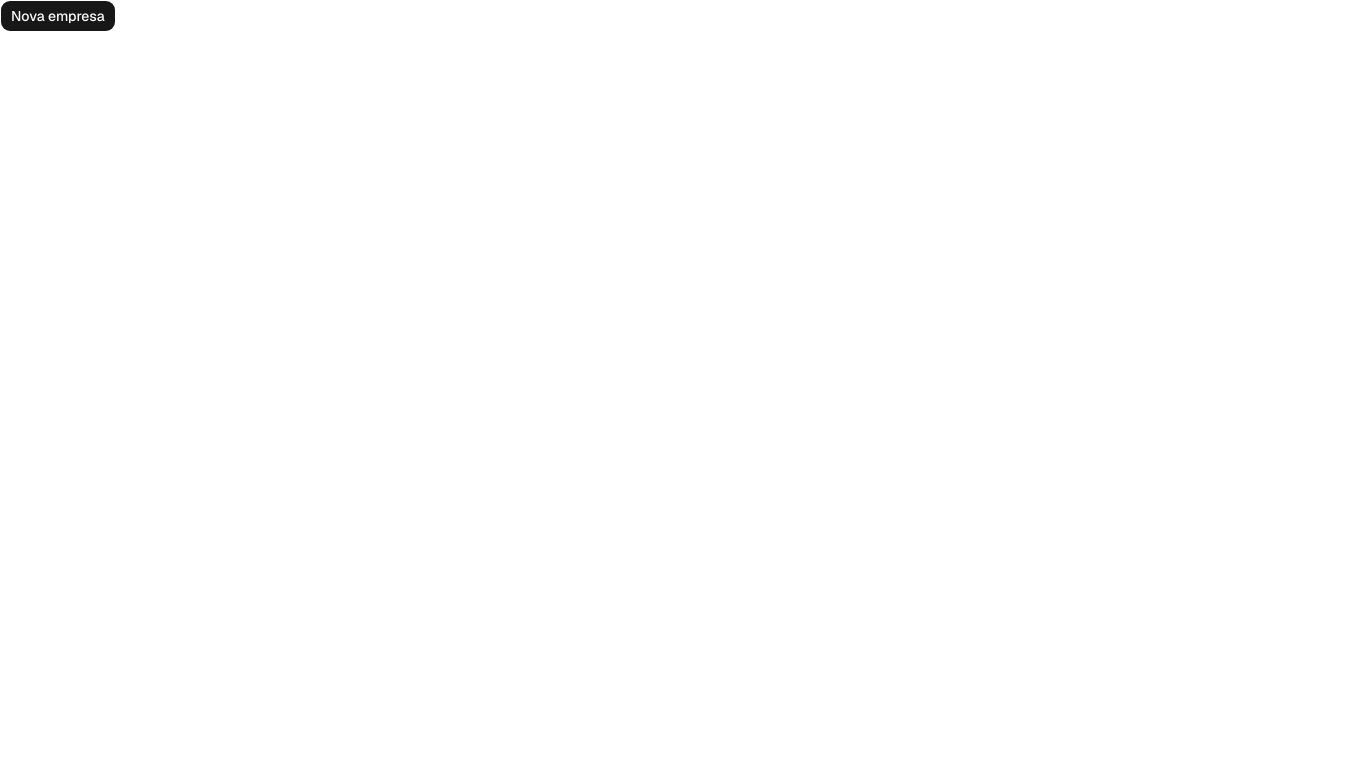
it: CreateCompanyDialog › shows the field error Já existe uma empresa com este nome. and stays open
Click the button "Nova empresa" at (58, 16), box [0,0,116,32]
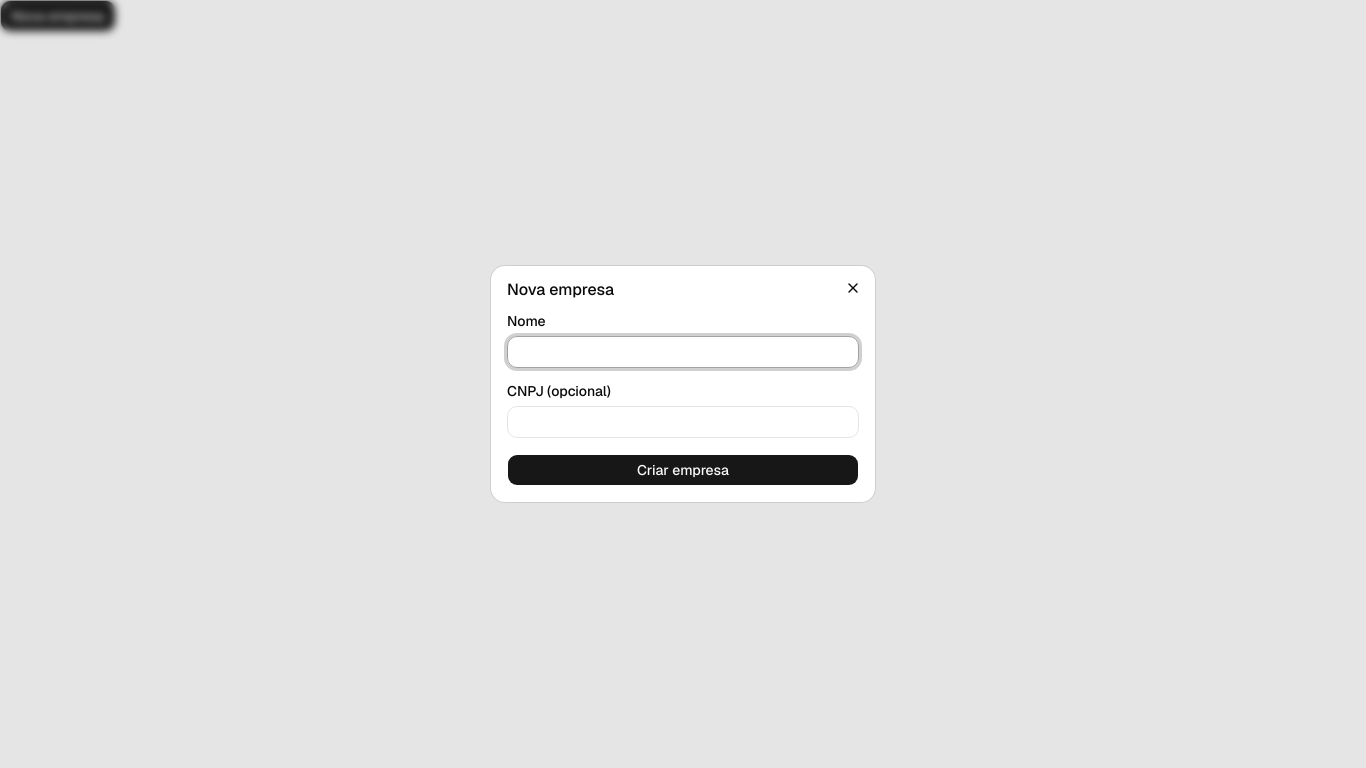
Type "Acme" into the field labelled "Nome" at (683, 352), box [507,336,859,368]
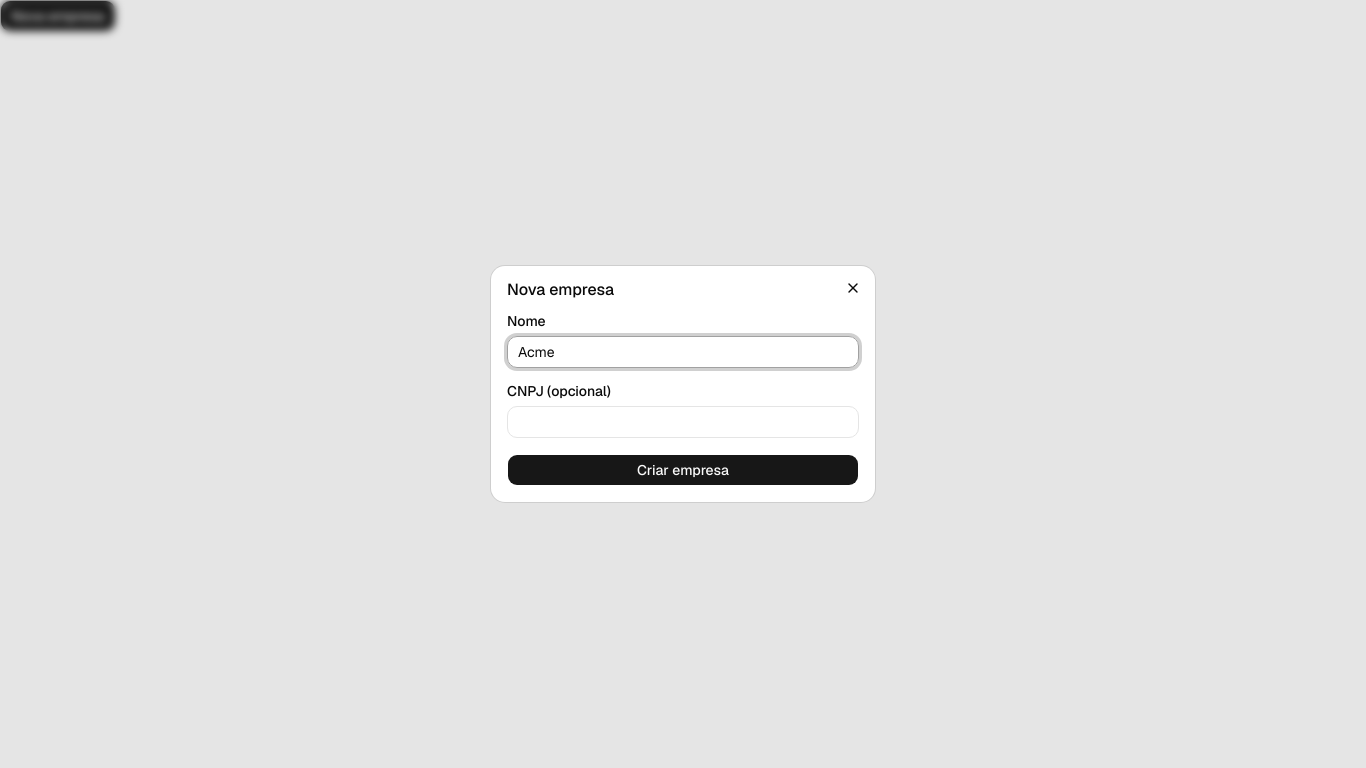
Click the button "Criar empresa" at (683, 470), box [507,454,859,486]
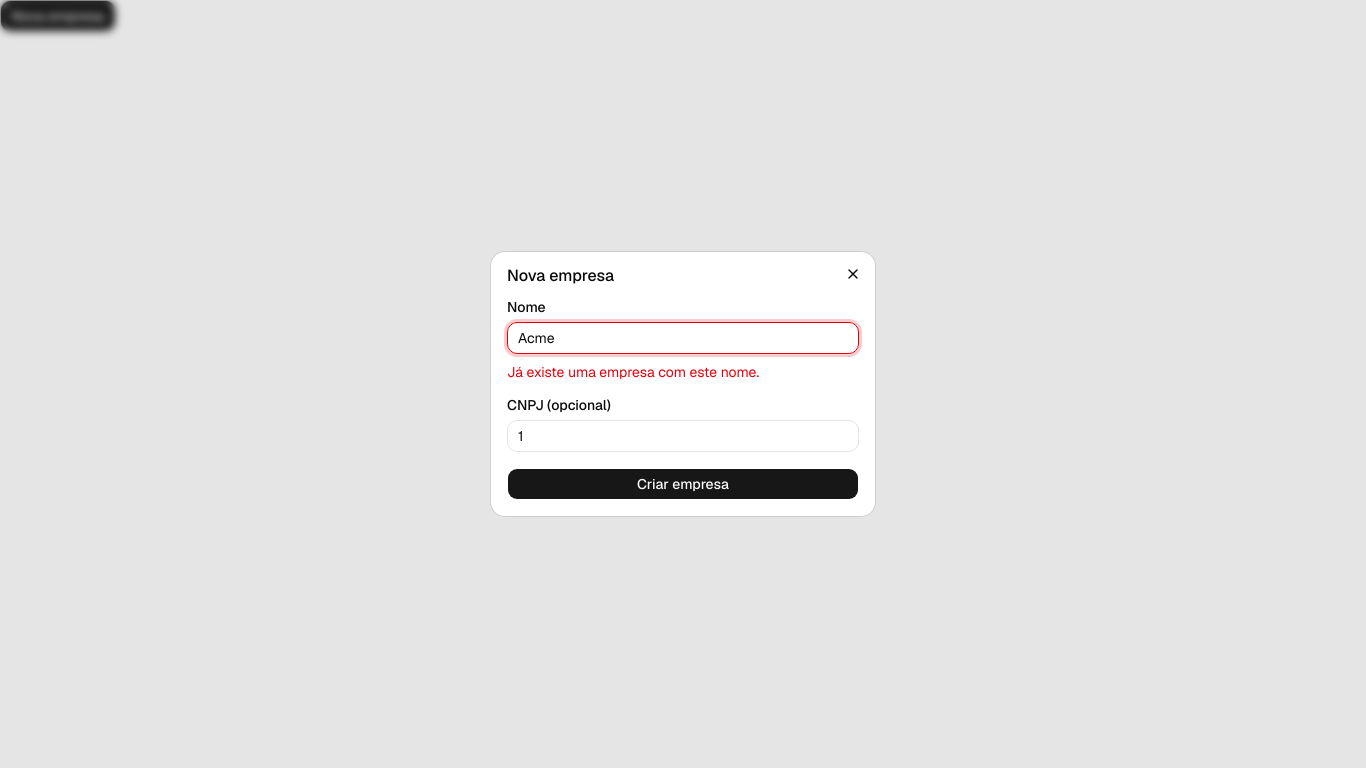
Check: the dialog is shown, box [491,252,875,516]
Check: the text "Já existe uma empresa com este nome." is shown, box [507,363,759,381]
